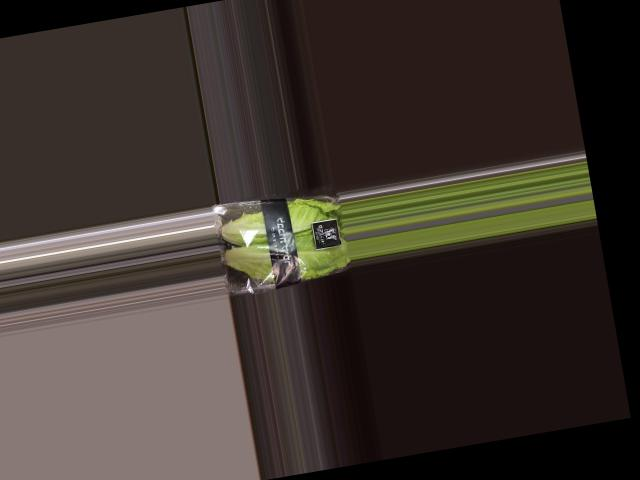lettuce: (210, 184, 350, 291)
